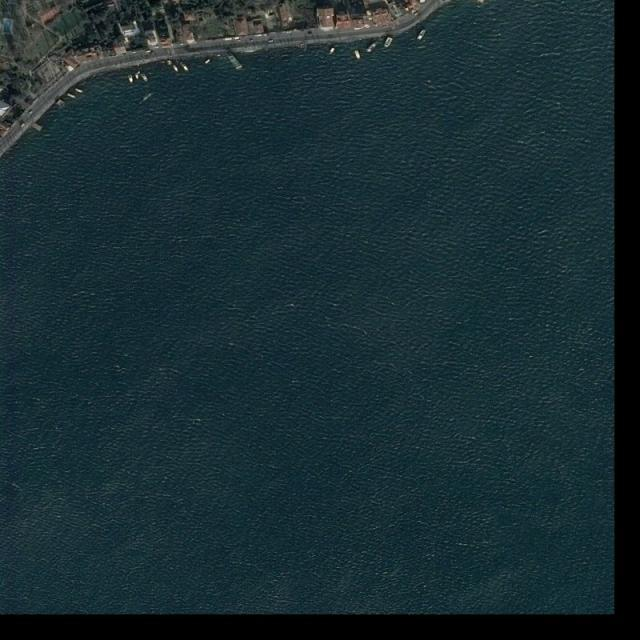ship: (226, 50, 244, 72), (366, 40, 380, 54), (384, 35, 394, 48), (416, 29, 426, 41), (142, 92, 153, 102), (141, 72, 150, 83), (181, 62, 190, 73), (354, 49, 362, 61), (328, 46, 337, 56), (66, 93, 78, 100), (172, 64, 180, 74), (128, 74, 134, 85), (74, 88, 85, 94), (134, 72, 140, 81), (204, 58, 211, 65)
